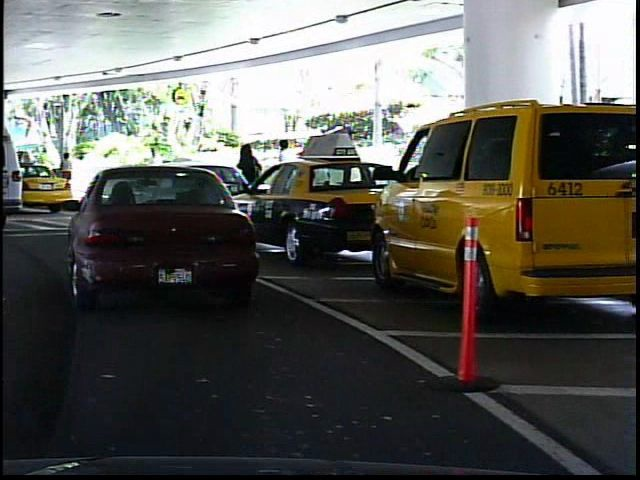person: (232, 137, 268, 217), (271, 135, 300, 211), (142, 142, 166, 204), (56, 150, 78, 196)
